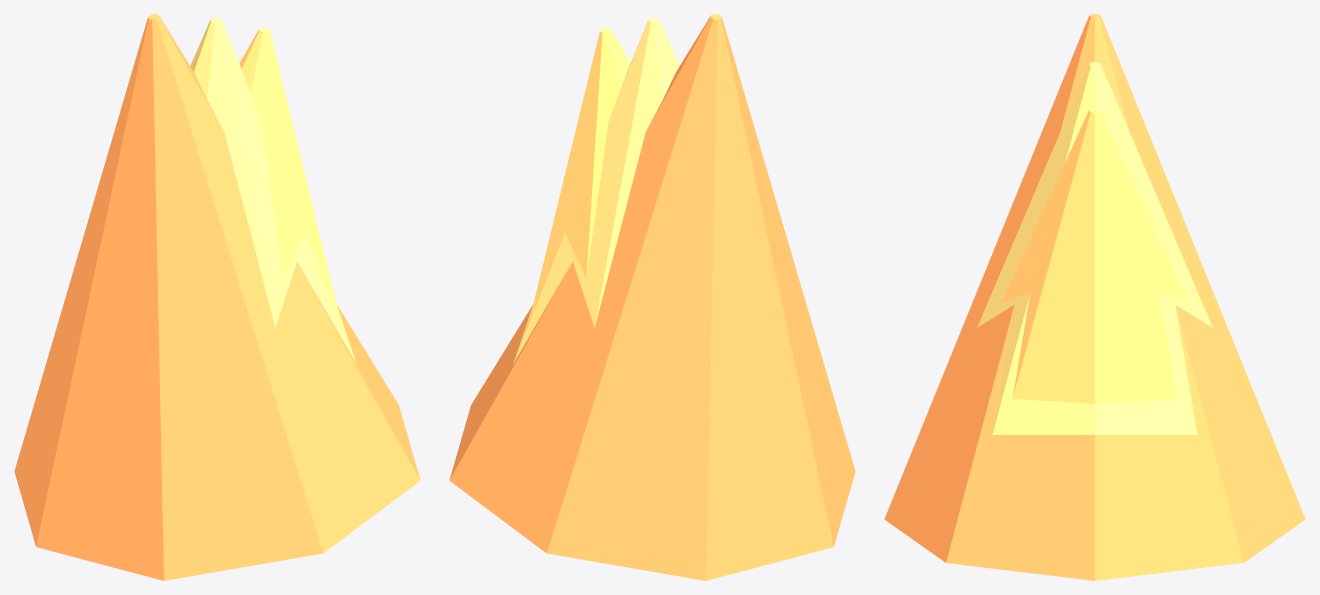
File: ember_flame.glb
The picture shows the model from 3 angles, left to right: view 1: azimuth 30°, elevation 25°; view 2: azimuth 150°, elevation 25°; view 3: azimuth 270°, elevation 25°; orthographic projection.
Parts seen in each view (by area): view 1: FlameLayer_0.006, FlameLayer_1.006, FlameLayer_2.001; view 2: FlameLayer_0.006, FlameLayer_1.006, FlameLayer_2.001; view 3: FlameLayer_0.006, FlameLayer_2.001, FlameLayer_1.006.
Part boxes in pixels (box(x1,y1,x2,y2)): FlameLayer_0.006: box(14, 14, 420, 580); FlameLayer_1.006: box(190, 17, 356, 363); FlameLayer_2.001: box(239, 28, 341, 323); FlameLayer_0.006: box(449, 14, 855, 580); FlameLayer_1.006: box(513, 17, 679, 363); FlameLayer_2.001: box(528, 28, 630, 323); FlameLayer_0.006: box(884, 14, 1305, 580); FlameLayer_2.001: box(1002, 106, 1187, 403); FlameLayer_1.006: box(977, 62, 1212, 434).
Size of the model in its own units: 1.43 by 1.89 by 1.44.
